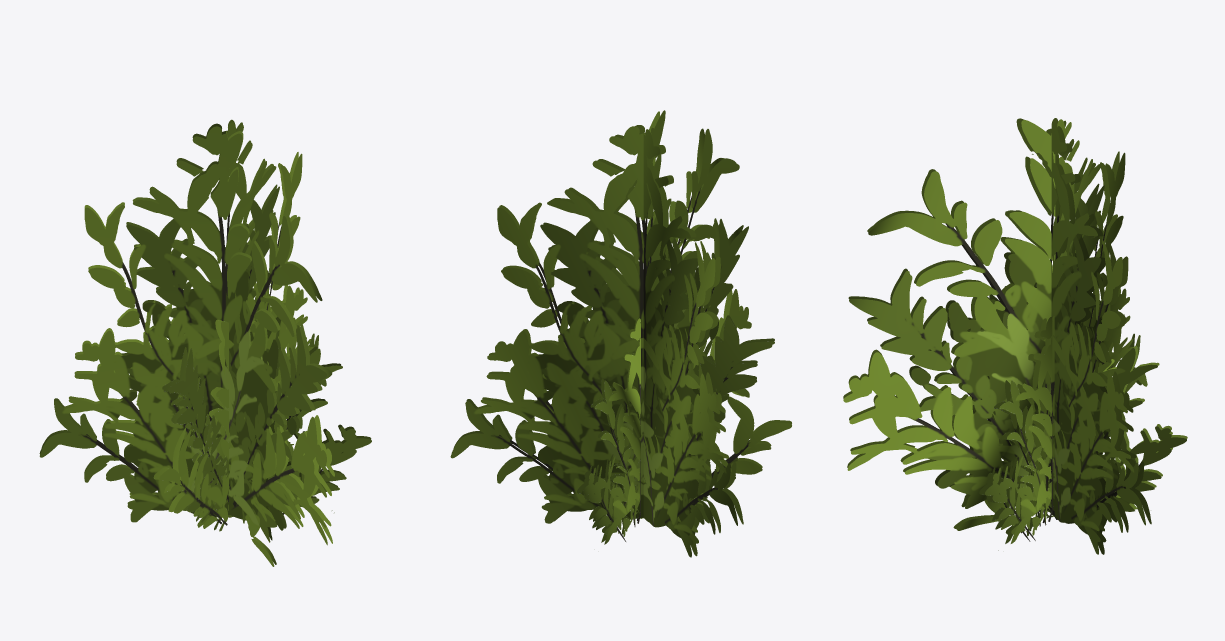
The model's file is bush2.fbx.
The picture shows the model from 3 angles, left to right: view 1: azimuth 30°, elevation 25°; view 2: azimuth 150°, elevation 25°; view 3: azimuth 270°, elevation 25°; orthographic projection.
Visible parts, largest first — view 1: plants2.004; view 2: plants2.004; view 3: plants2.004.
Part boxes in pixels (box(x1,y1,x2,y2)): plants2.004: box(39, 119, 371, 566); plants2.004: box(450, 110, 791, 557); plants2.004: box(843, 118, 1187, 554).
Size of the model in its own units: 200 by 262 by 198.
